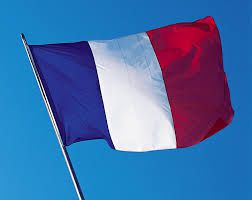French Flag: (28, 17, 234, 153)
